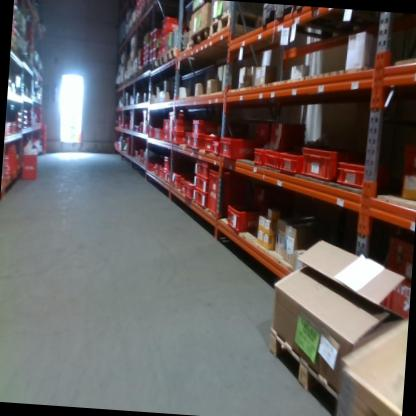pallet: (264, 321, 345, 413), (207, 9, 266, 44), (185, 23, 210, 52), (166, 45, 184, 68), (155, 50, 166, 70)
small_load_carrier: (299, 144, 370, 188), (338, 155, 394, 196), (207, 169, 251, 218), (226, 204, 260, 233), (221, 135, 256, 159), (273, 120, 309, 139), (279, 152, 303, 176), (271, 136, 306, 152), (194, 160, 221, 180), (20, 153, 41, 178), (193, 120, 220, 134), (265, 147, 280, 171), (203, 134, 221, 153), (194, 174, 213, 192), (172, 121, 193, 136), (194, 188, 211, 205), (253, 147, 267, 167), (171, 171, 187, 188), (171, 131, 186, 147), (162, 17, 179, 31), (184, 180, 197, 197), (256, 122, 270, 137), (192, 133, 205, 149), (184, 134, 195, 149), (154, 126, 164, 140), (163, 155, 171, 172), (180, 178, 188, 194), (211, 140, 219, 153)
